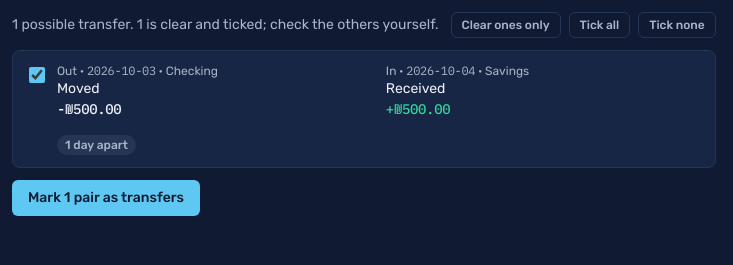
Scenario: TransferMatchesPanel › shows a server error and stays usable
This screenshot has width=733, height=265.
Click the button "Mark 1 pair as transfers": (106, 198) [12, 180, 200, 216]
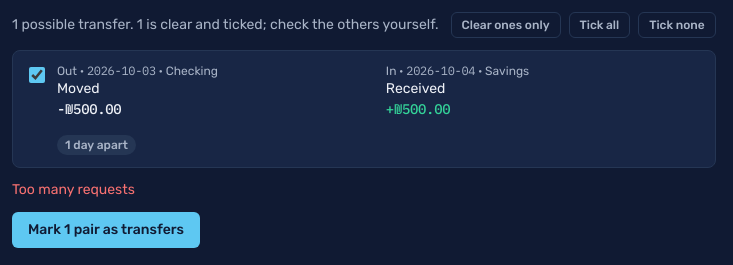
Expected: the button "Mark 1 pair as transfers" is enabled, [12, 212, 200, 248]
Result: the message reads "Too many requests" at [12, 181, 135, 198]
